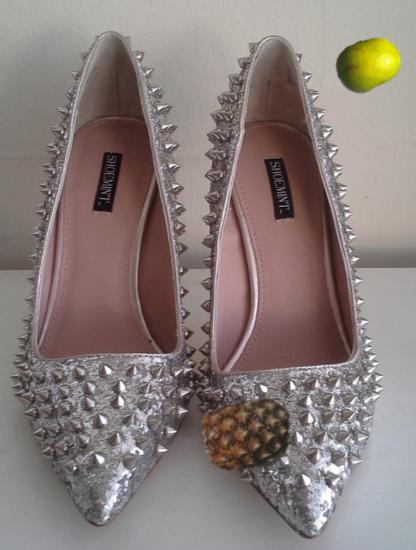Pineapple: (201, 386, 299, 484)
Pomelo: (335, 31, 403, 99)
